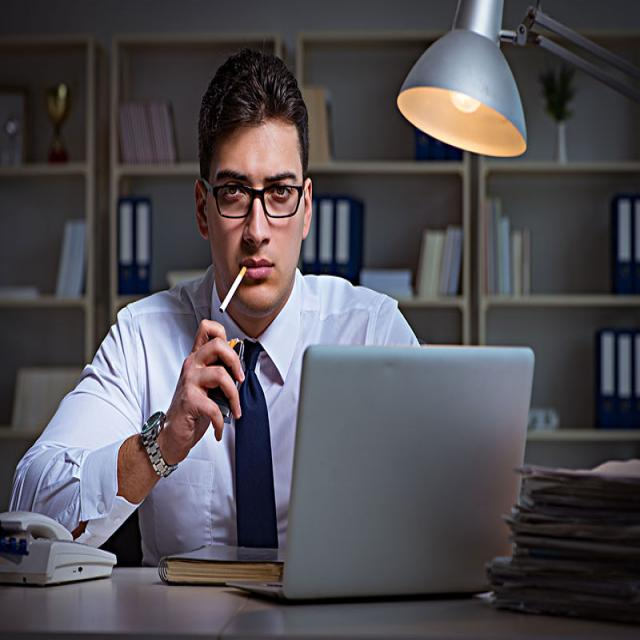smoking: (220, 263, 247, 313)
